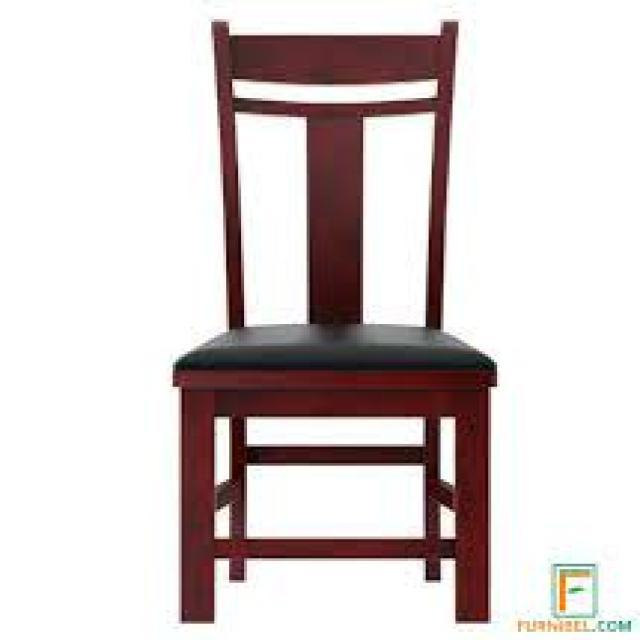chair: (143, 0, 509, 629)
